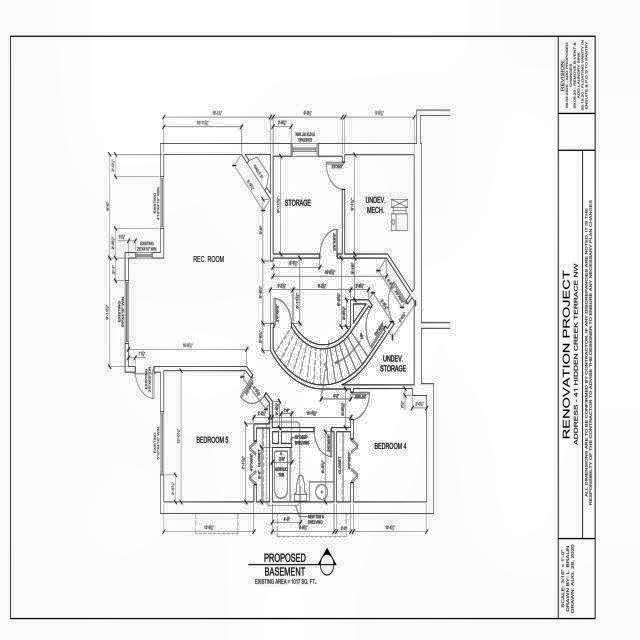room: (164, 371, 269, 502), (345, 155, 414, 292), (354, 389, 427, 502), (273, 156, 342, 254), (343, 298, 414, 385), (273, 432, 334, 502), (337, 432, 351, 502), (257, 428, 270, 502)
